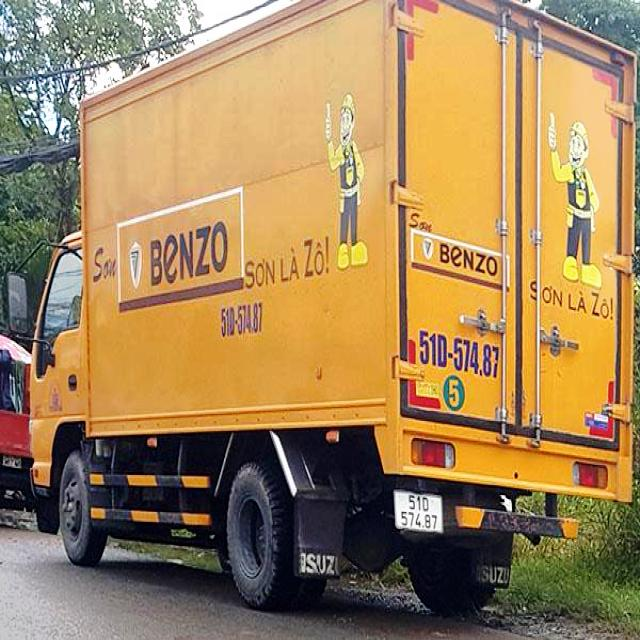license_plate: (396, 490, 445, 534)
